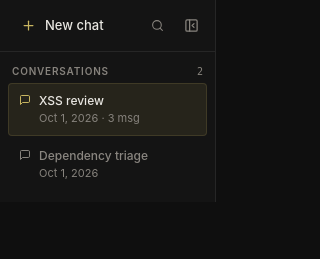
Test: search filters by title and explains when nothing matches
Click the button named "Search chat sessions".
click(157, 26)  # box [141,10,173,42]
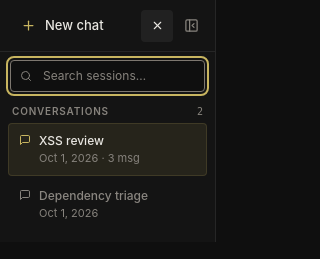
Type "xss" into the field named "Search chat sessions".
click(108, 76); type("xss")  # box [10,60,205,92]
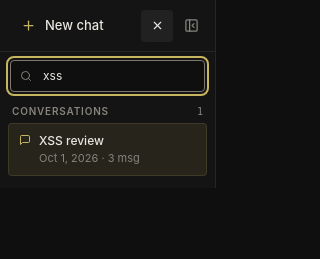
expect the button "Dependency triage" is gone: met
Replace the text in the field named "Search chat sessions" with "kubernetes" at coordinates (108, 76), box [10,60,205,92]
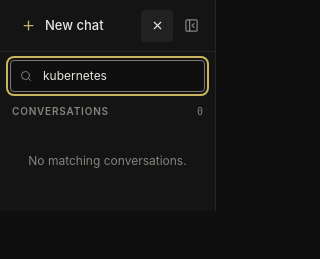
expect the text "No matching conversations." is shown: met, box [28,153,187,168]
# Closing search clears the filter.
Click the button named "Close session search".
click(157, 26)  # box [141,10,173,42]
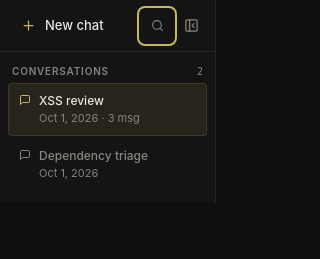
expect the button "Dependency triage Oct 1, 2026" is shown: met, box [19,146,196,181]
